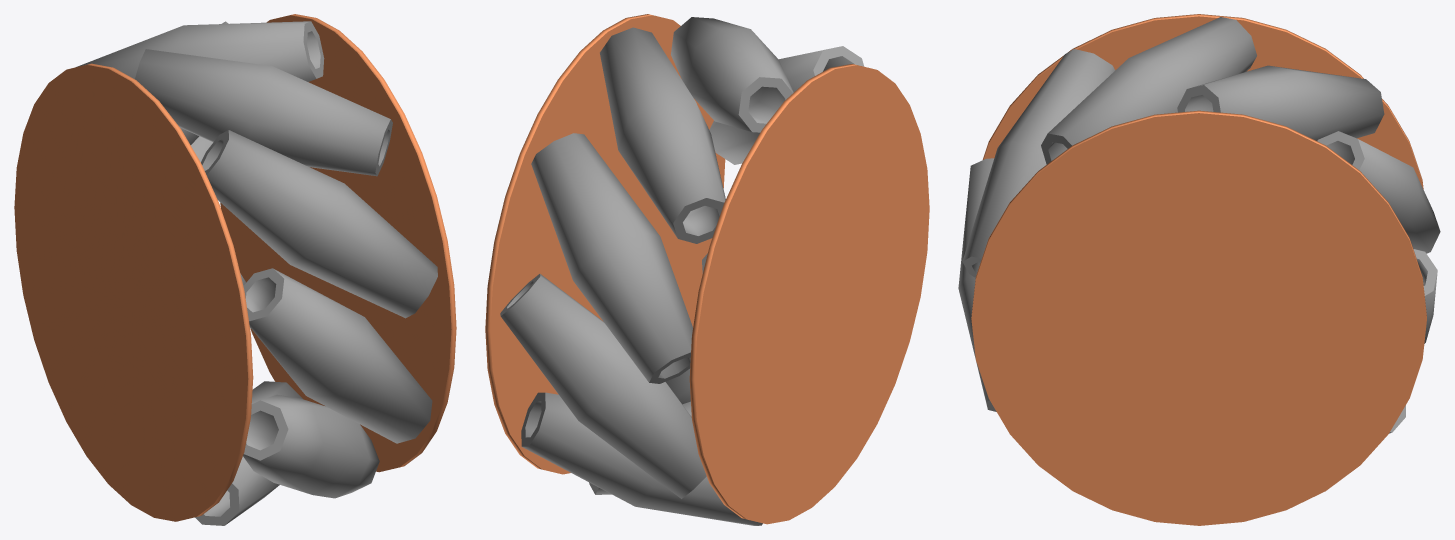
File: omnirobBRWheel.dae
The picture shows the model from 3 angles, left to right: view 1: azimuth 30°, elevation 25°; view 2: azimuth 150°, elevation 25°; view 3: azimuth 270°, elevation 25°; orthographic projection. The views are drawn at different scales.
Parts seen in each view (by area): view 1: Omnirob_RRwheel_visible; view 2: Omnirob_RRwheel_visible; view 3: Omnirob_RRwheel_visible.
Boxes of the visible parts, box(x1,y1,x2,y2) form: Omnirob_RRwheel_visible: box(14, 14, 456, 525); Omnirob_RRwheel_visible: box(485, 14, 929, 525); Omnirob_RRwheel_visible: box(958, 14, 1440, 525).
Size of the model in its own units: 0.1235 by 0.254 by 0.254.
